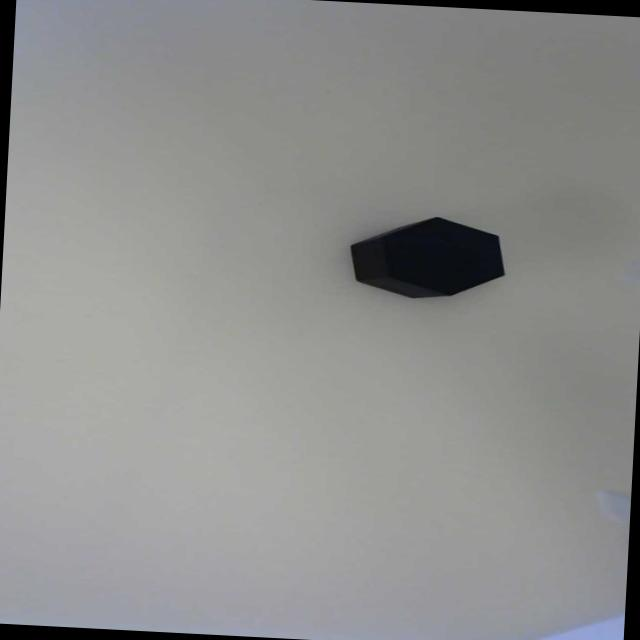hexagon: (363, 205, 532, 302)
